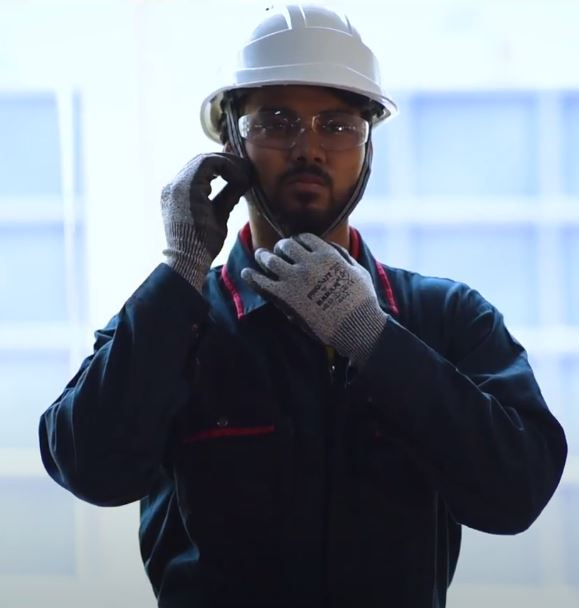Safety Helmet: (192, 2, 405, 244)
